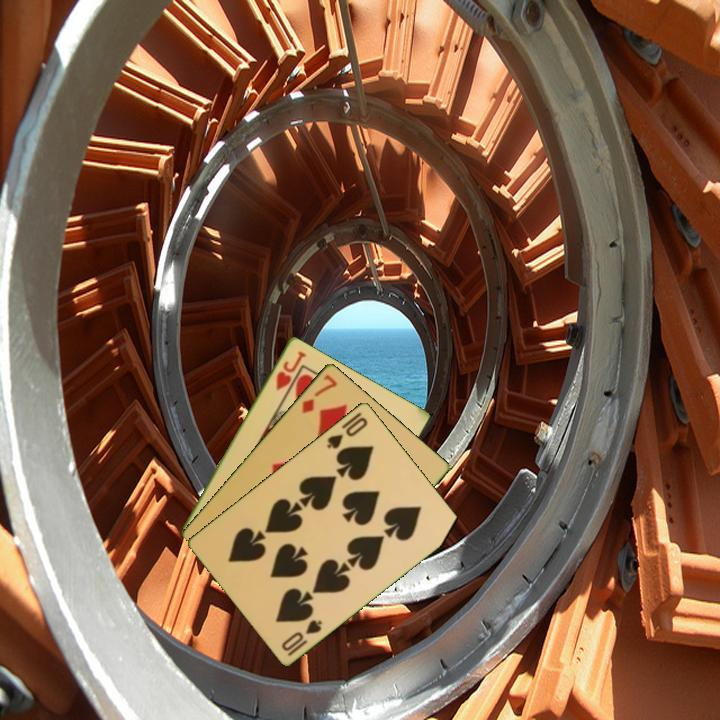10s: (278, 616, 325, 659), (323, 413, 371, 452)
7d: (298, 371, 340, 416)
Jh: (272, 347, 308, 393)
